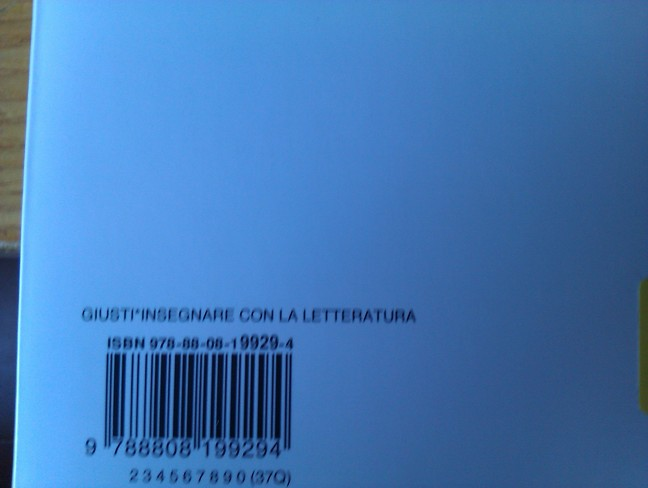detection: (76, 350, 310, 462)
